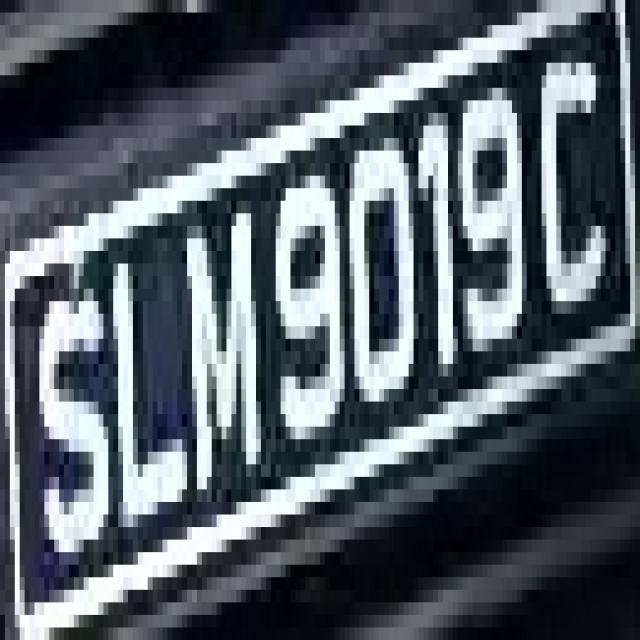0: (344, 126, 424, 427)
1: (413, 88, 462, 427)
9: (261, 150, 345, 490), (453, 75, 532, 389)
C: (527, 12, 625, 364)
L: (94, 213, 182, 578)
M: (172, 176, 266, 502)
S: (35, 251, 118, 590)
